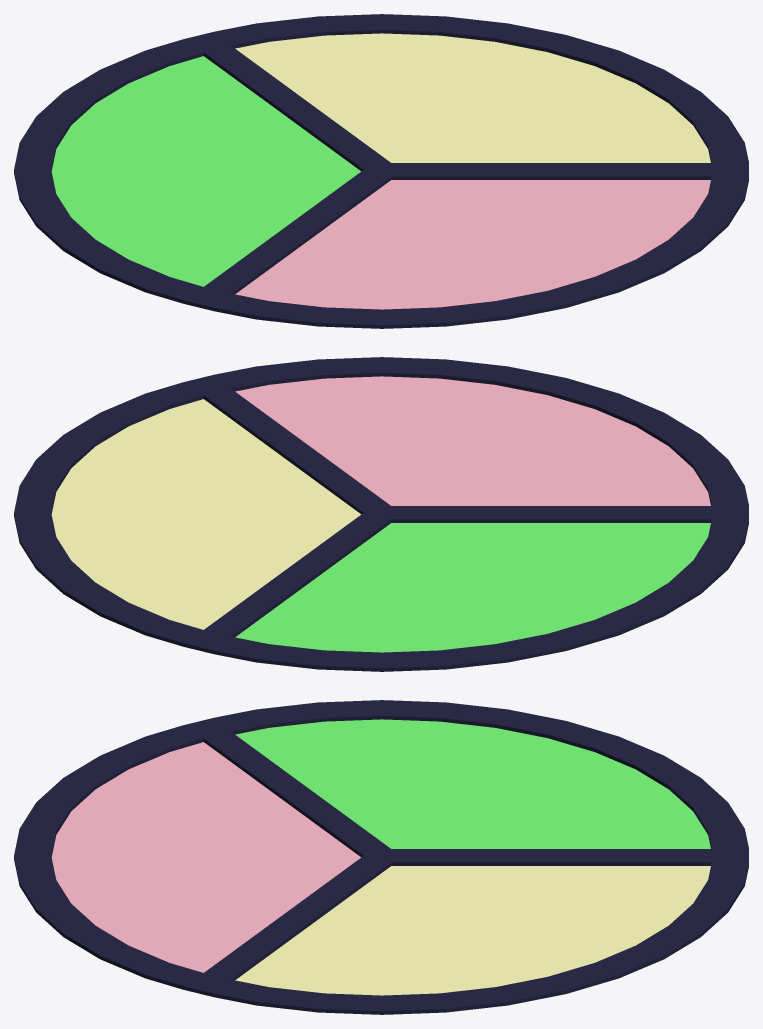
The model's file is frequency 2 (enjoy).fbx.
3 views of the same model, one above another, from view 1: azimuth 30°, elevation 25°; view 2: azimuth 150°, elevation 25°; view 3: azimuth 270°, elevation 25° (orthographic).
Parts seen in each view (by area): view 1: Circle; view 2: Circle; view 3: Circle.
Part boxes in pixels (bbox=[...]): Circle: bbox=[14, 14, 748, 328]; Circle: bbox=[14, 357, 748, 671]; Circle: bbox=[14, 700, 748, 1014].
Bounding box in the file's own units: 223 × 1.2 × 222.
